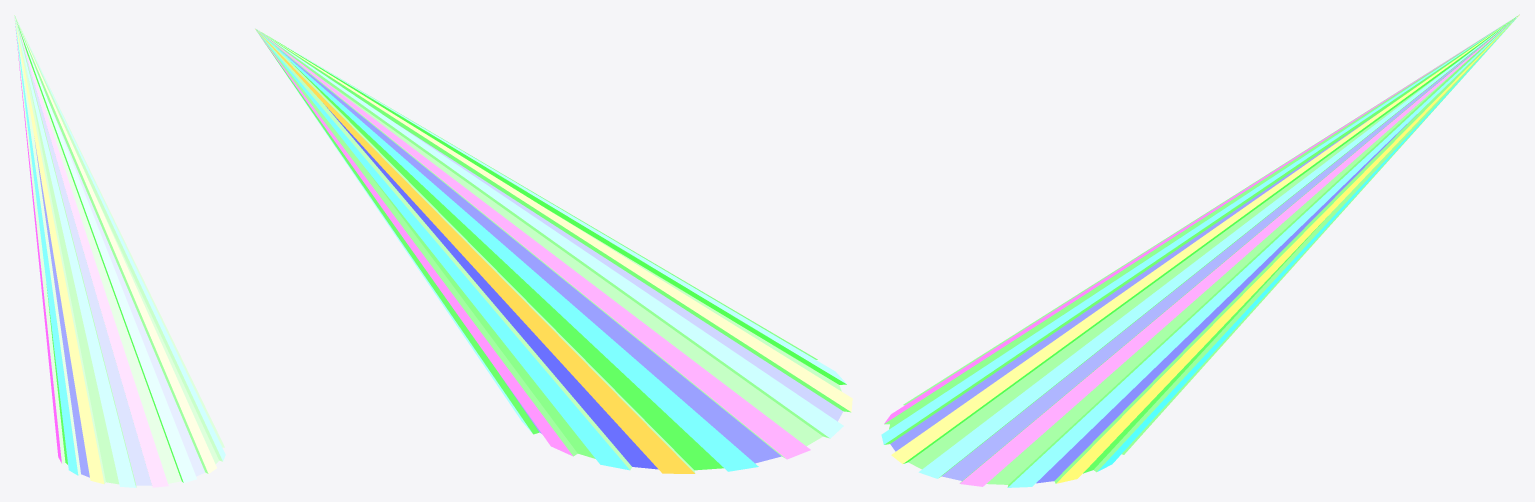
The model's file is unicornhorn.fbx.
3 views of the same model, side by side, from view 1: azimuth 30°, elevation 25°; view 2: azimuth 150°, elevation 25°; view 3: azimuth 270°, elevation 25° (orthographic). The views are drawn at different scales.
Visible parts, largest first — view 1: Cone; view 2: Cone; view 3: Cone.
Part boxes in pixels (box(x1,y1,x2,y2)): Cone: box(14, 15, 225, 487); Cone: box(255, 28, 852, 473); Cone: box(881, 14, 1519, 487).
Size of the model in its own units: 203 by 403 by 515.
